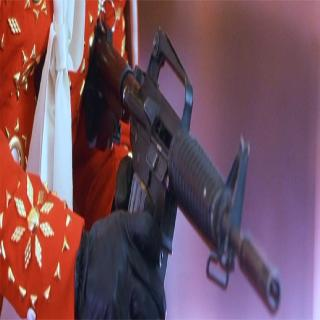gun: (98, 10, 289, 310)
